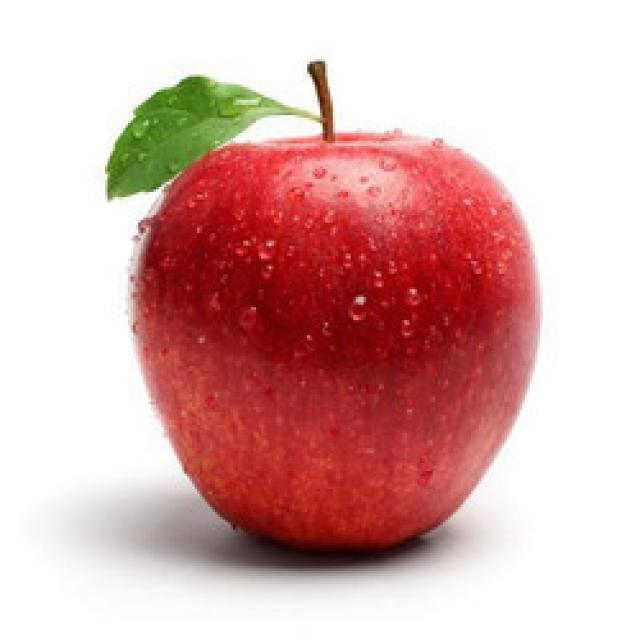Apel: (125, 130, 538, 548)
